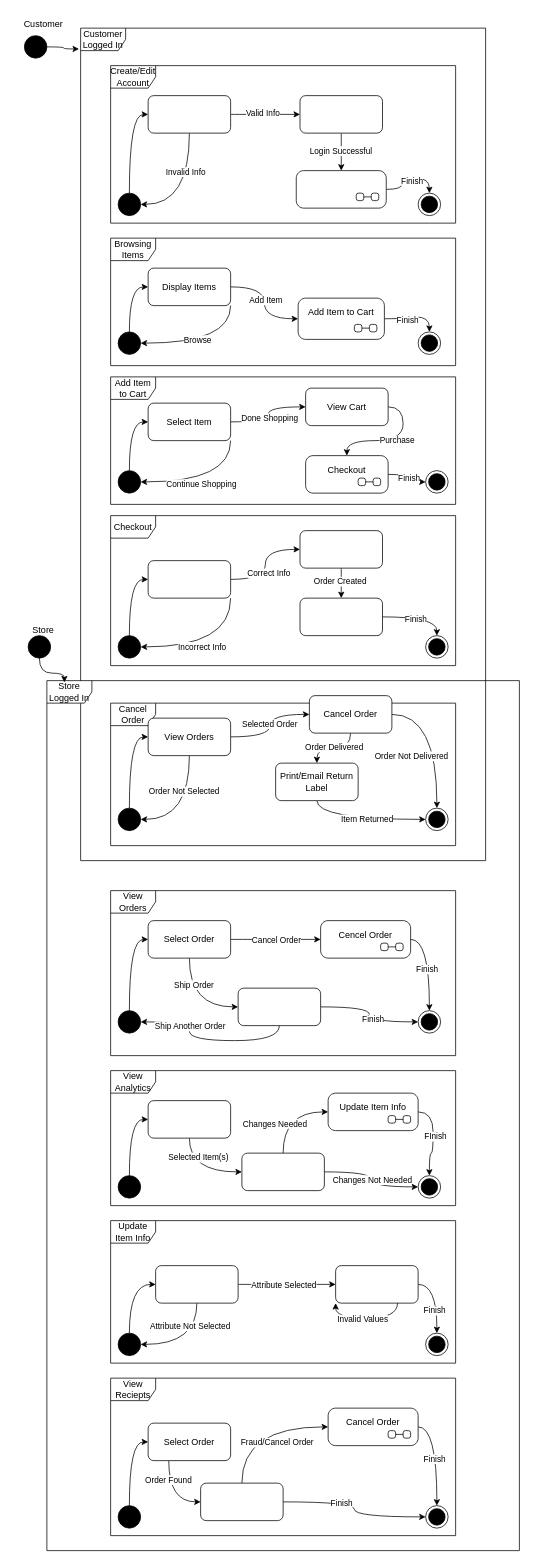
The diagram is 533 pixels wide and 1564 high, and some of its shapes have lost their labels. The centre of each missing label's shape, as x and y in pixels:
"Browse Items" belongs at pixel 341 189.
"Change Values" belongs at pixel 376 1284.
"Create Order" belongs at pixel 340 549.
"Create Recipt" belongs at pixel 340 616.
"Create Shipping Label" belongs at pixel 279 1006.
"Display Data" belongs at pixel 282 1171.
"Display Receipt" belongs at pixel 241 1501.
"Enter Card Information" belongs at pixel 189 579.
"Enter Information (Name, Email, Pwrd, Address)" belongs at pixel 189 114.
"Login" belongs at pixel 340 114.
"Select Item Attribute" belongs at pixel 196 1284.
"Select Item/Category" belongs at pixel 189 1119.
